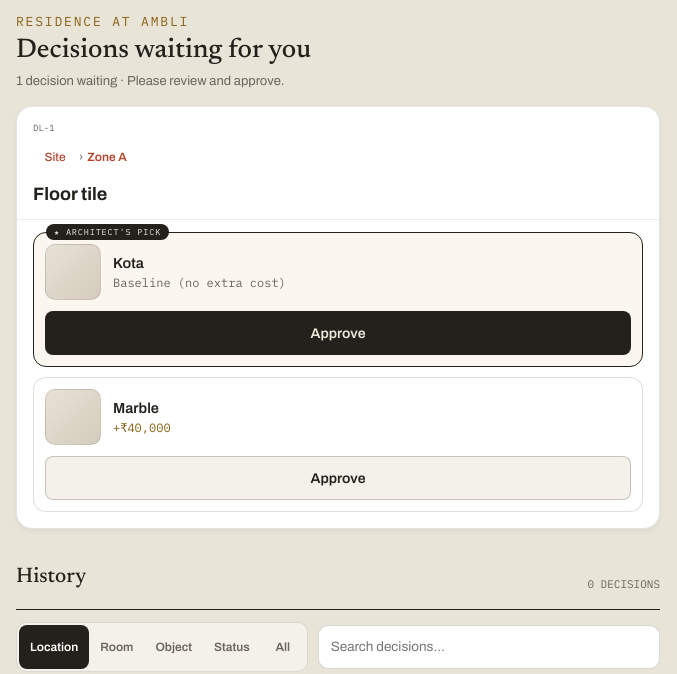
Test: the client's pending decision shows the same coordinate the PMC reads › a crumb takes the client to that place on the Site Map
Click the button with test id "client-decision-place-DL-1-crumb-1": [107, 157] box [84,135,130,179]
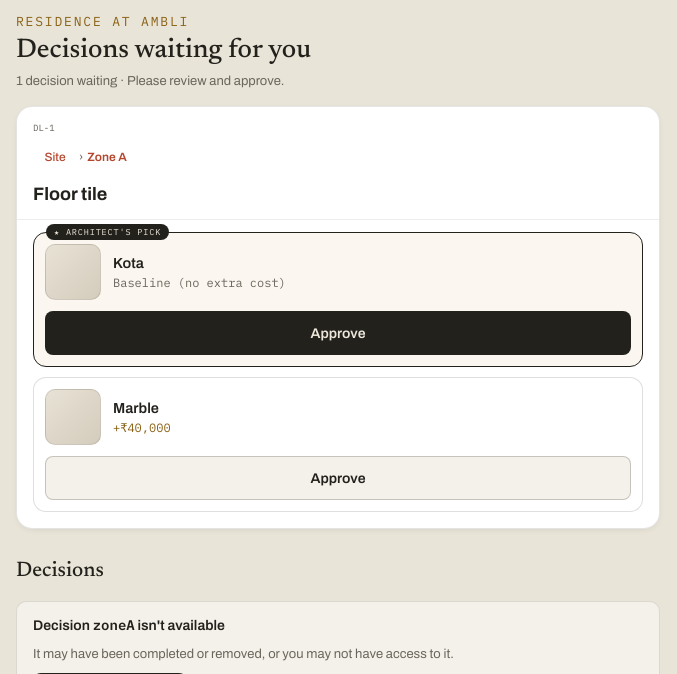
Result: the text "zoneA" is shown at [93,616,135,634]
